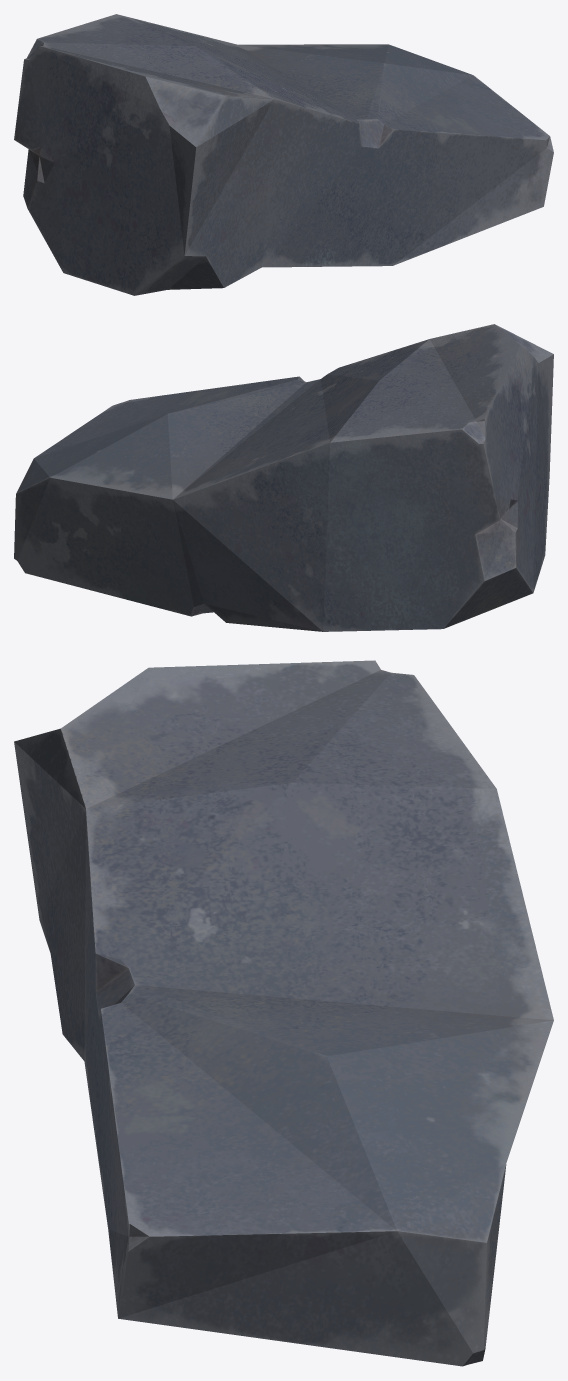
Rendered from Rock5.fbx.
3 renders of one model, top to bottom at view 1: azimuth 30°, elevation 25°; view 2: azimuth 150°, elevation 25°; view 3: azimuth 270°, elevation 25°, orthographic. The views are drawn at different scales.
Visible parts, largest first — view 1: stylized_rock_59; view 2: stylized_rock_59; view 3: stylized_rock_59.
Boxes of the visible parts, x1,y1,x2,y2 form: stylized_rock_59: [14, 14, 553, 295]; stylized_rock_59: [14, 324, 553, 631]; stylized_rock_59: [14, 660, 553, 1366].
Bounding box in the file's own units: 5259 × 2748 × 3328.
1 material, 1 textured.
